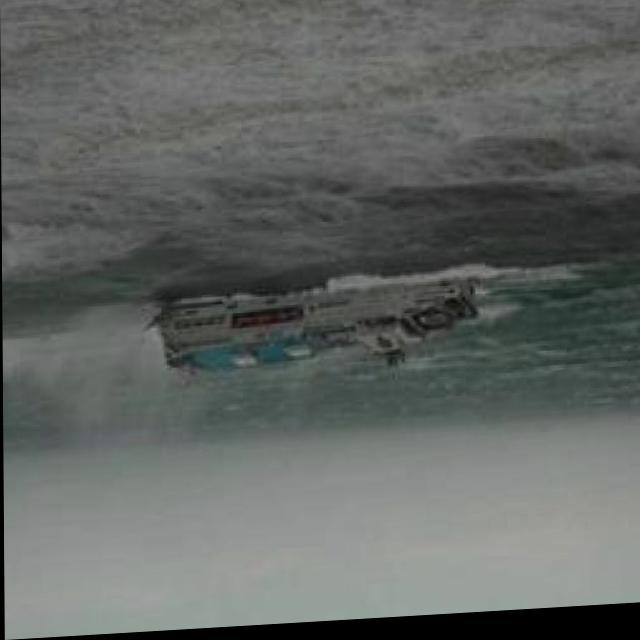ship2: (141, 279, 481, 379)
